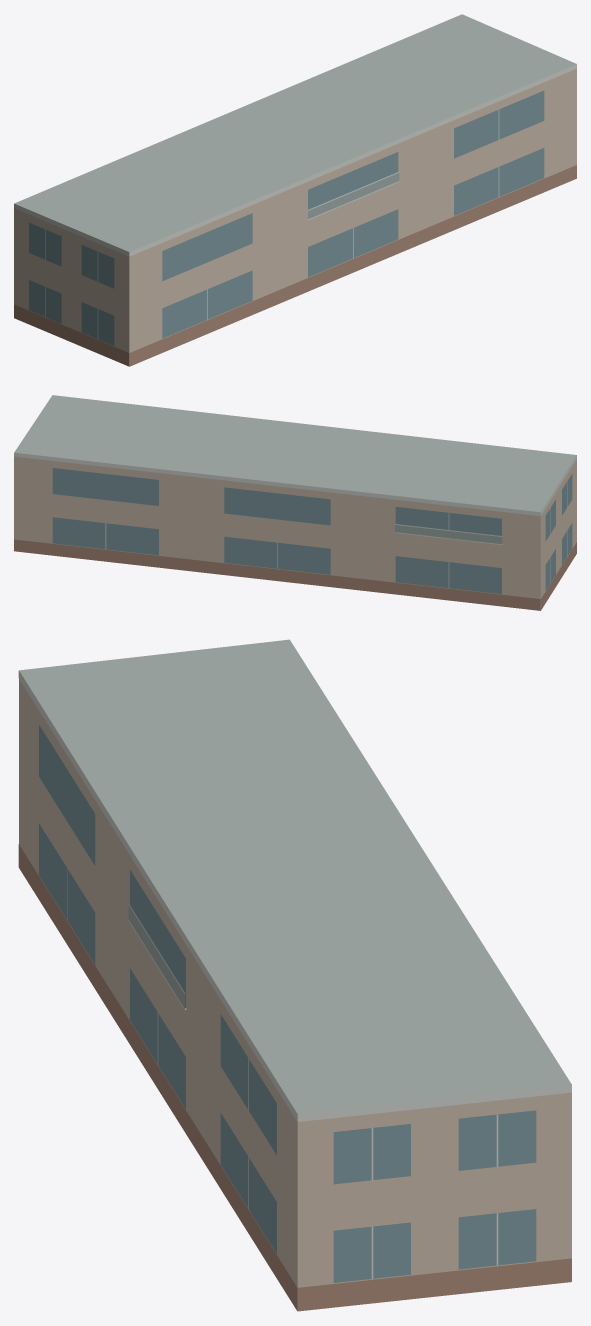
Rendered from survey-upis-32720508.glb.
3 renders of one model, top to bottom at view 1: azimuth 30°, elevation 25°; view 2: azimuth 150°, elevation 25°; view 3: azimuth 270°, elevation 25°, orthographic. The views are drawn at different scales.
Visible parts, largest first — view 1: survey-upis-32720508.tmp; view 2: survey-upis-32720508.tmp; view 3: survey-upis-32720508.tmp.
Part boxes in pixels (<box>): survey-upis-32720508.tmp: <box>14,14,576,366</box>; survey-upis-32720508.tmp: <box>14,395,576,610</box>; survey-upis-32720508.tmp: <box>18,639,571,1311</box>.
Size of the model in its own units: 31.49 by 6.1 by 15.51.
